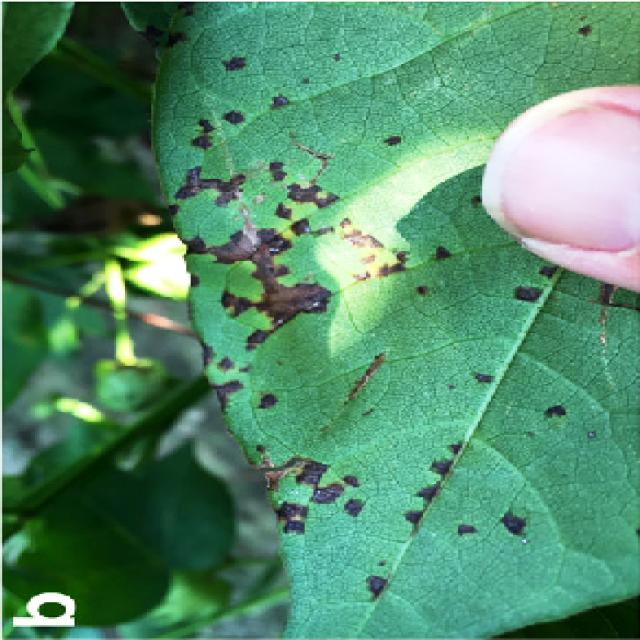Bacterial Blight: (182, 103, 392, 357)
